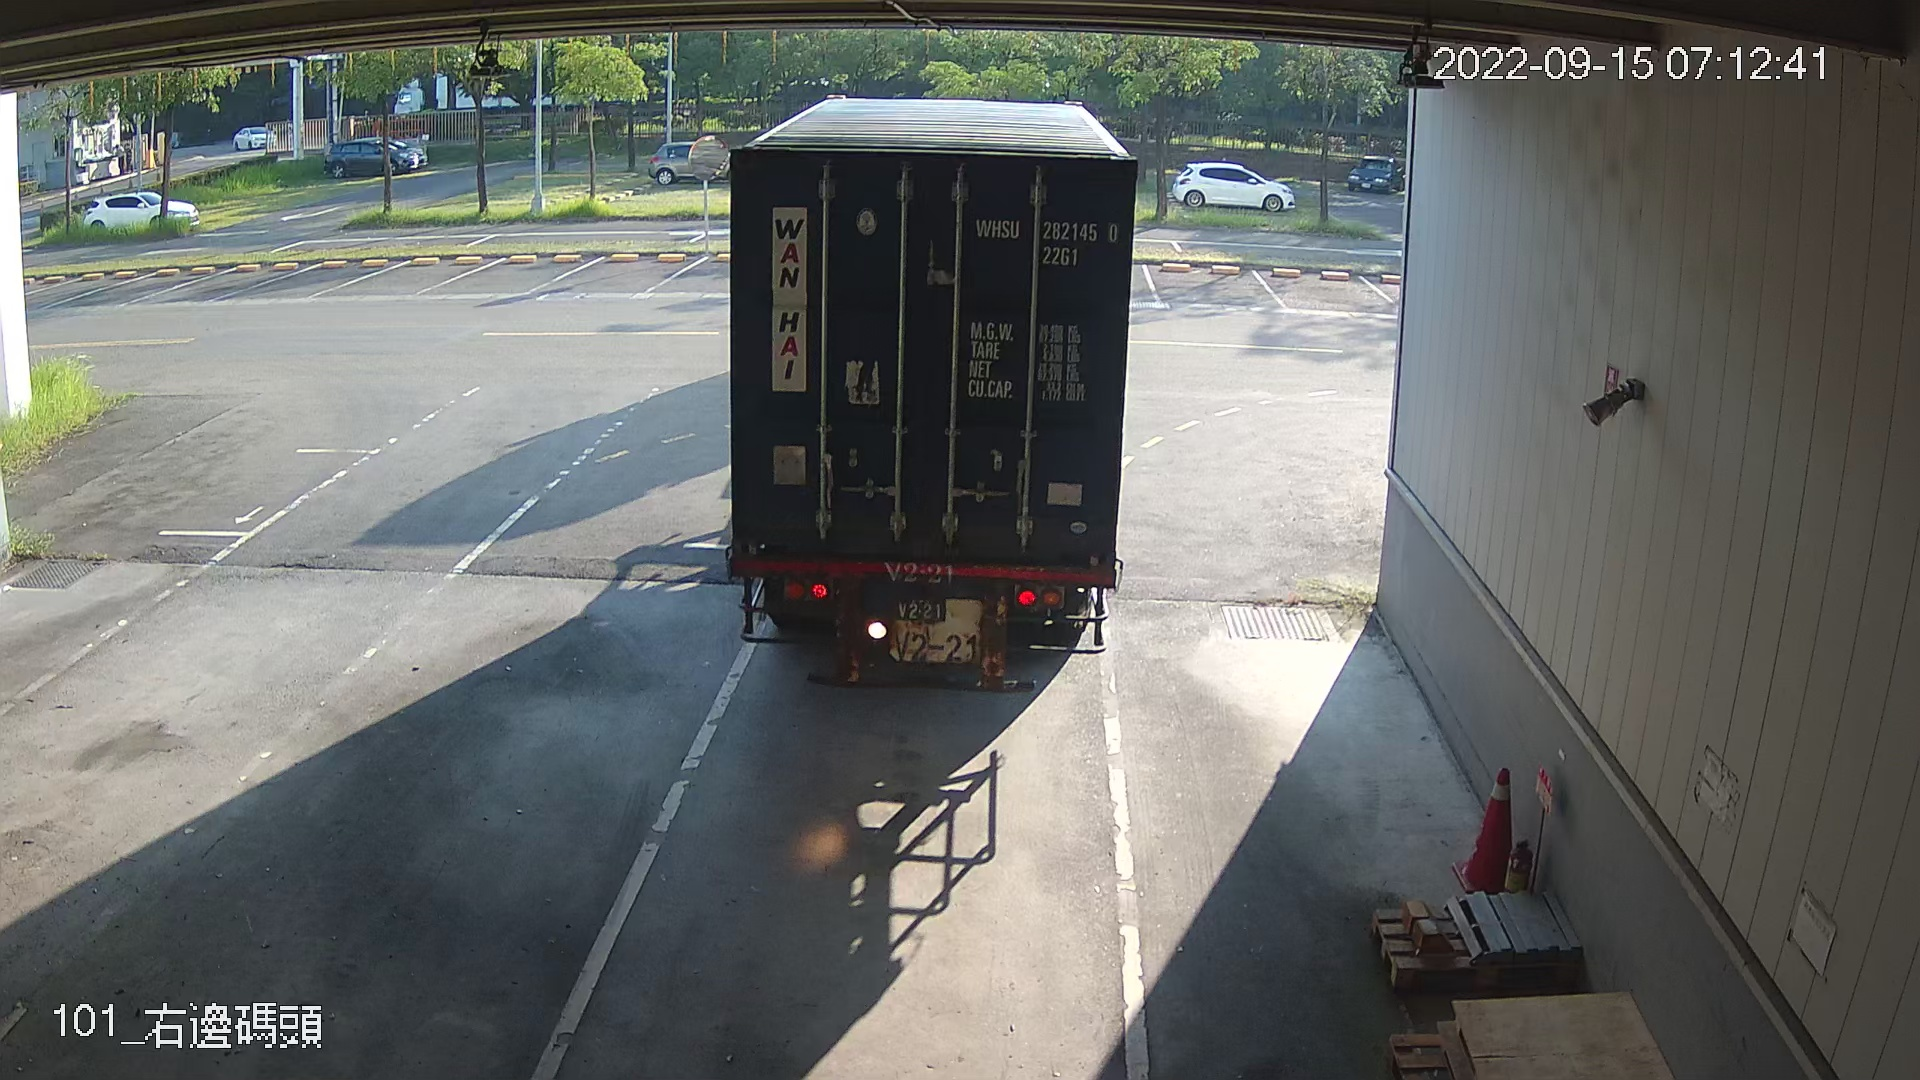container: (964, 207, 1125, 274)
